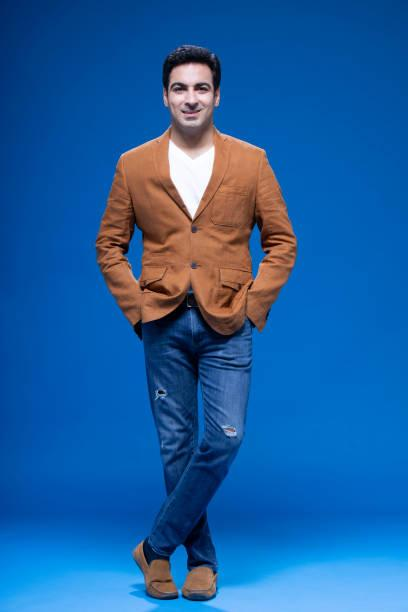Human: (87, 42, 294, 606)
